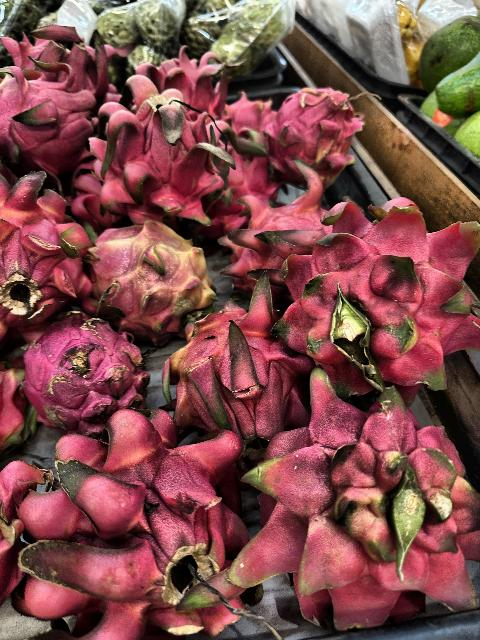buah-naga-belum-matang: (165, 313, 311, 447), (82, 222, 218, 332)
buah-naga-matang: (242, 372, 480, 618), (7, 430, 253, 626), (266, 194, 480, 398), (88, 76, 230, 224), (0, 162, 92, 330), (19, 324, 153, 422), (220, 180, 338, 286), (0, 56, 94, 174), (266, 86, 364, 186), (3, 28, 131, 96)
